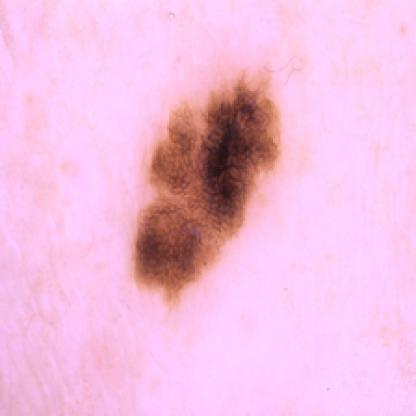benign: (134, 78, 282, 293)
